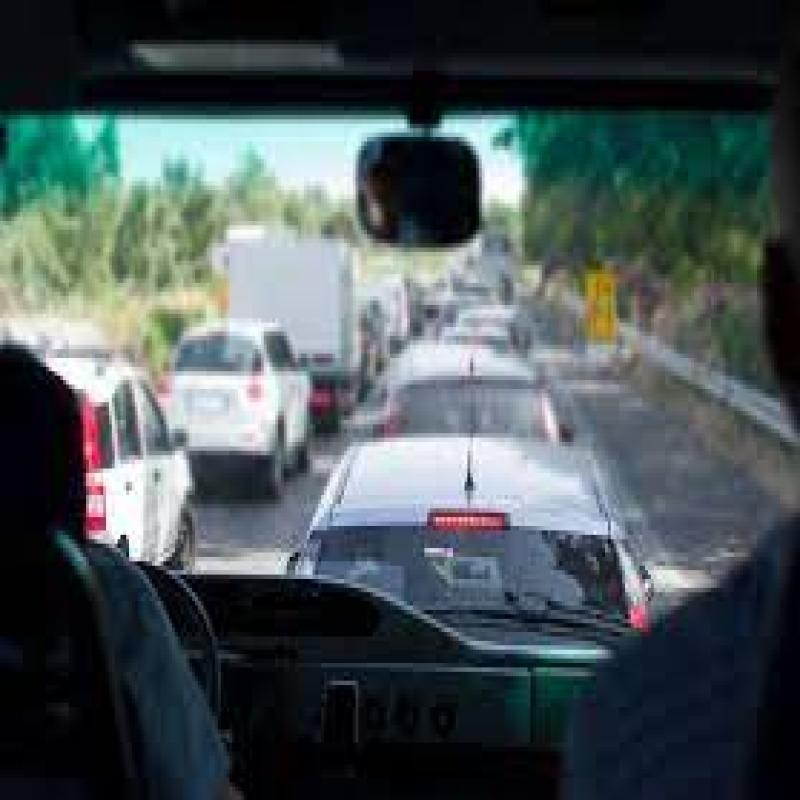car: (289, 442, 634, 716), (360, 331, 576, 516), (168, 313, 300, 489)
